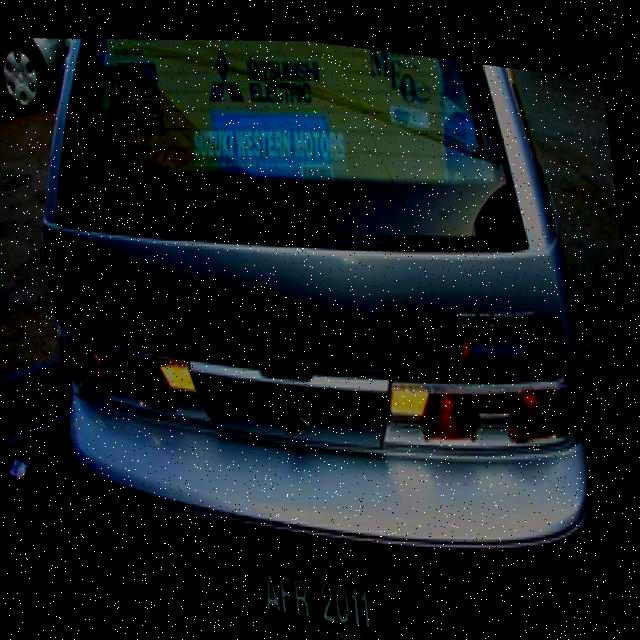license_plate: (252, 539, 382, 640)
